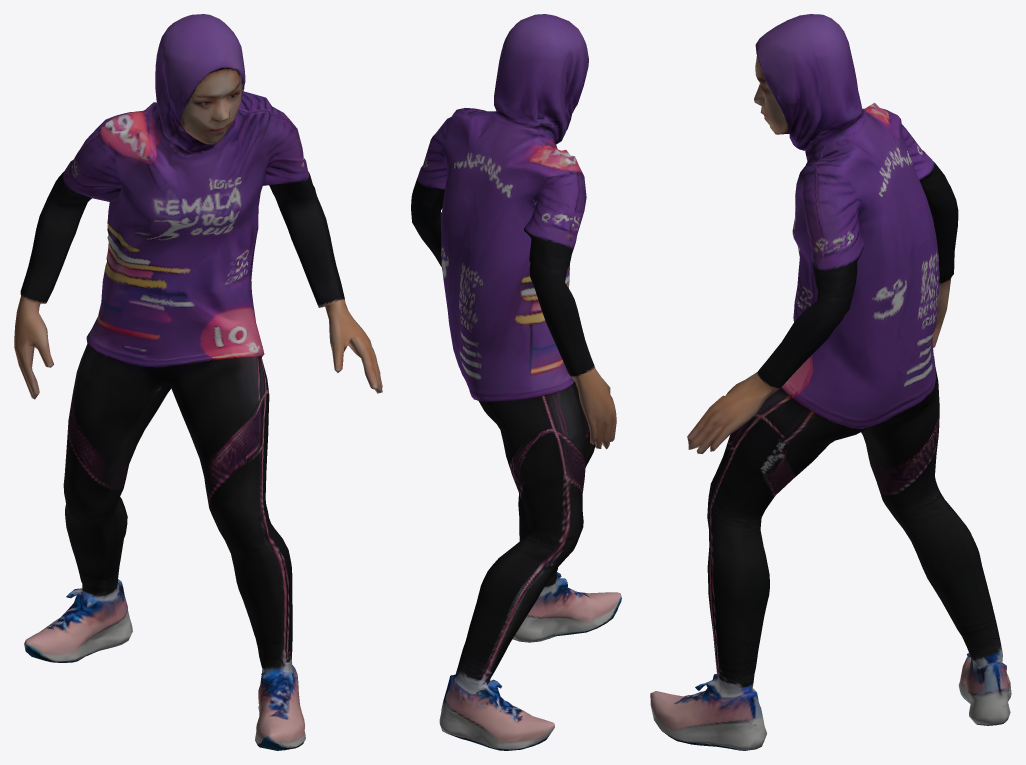
File: 10_4_idle.glb
3 renders of one model, left to right at view 1: azimuth 30°, elevation 25°; view 2: azimuth 150°, elevation 25°; view 3: azimuth 270°, elevation 25°, orthographic. The views are drawn at different scales.
Visible parts, largest first — view 1: Idle; view 2: Idle; view 3: Idle.
Boxes of the visible parts, x1=… form: Idle: x1=14, y1=14, x2=382, y2=750; Idle: x1=411, y1=14, x2=621, y2=750; Idle: x1=650, y1=14, x2=1011, y2=750.
Size of the model in its own units: 37.83 by 94.87 by 43.98.
Materials: 1 (1 with a texture image).
